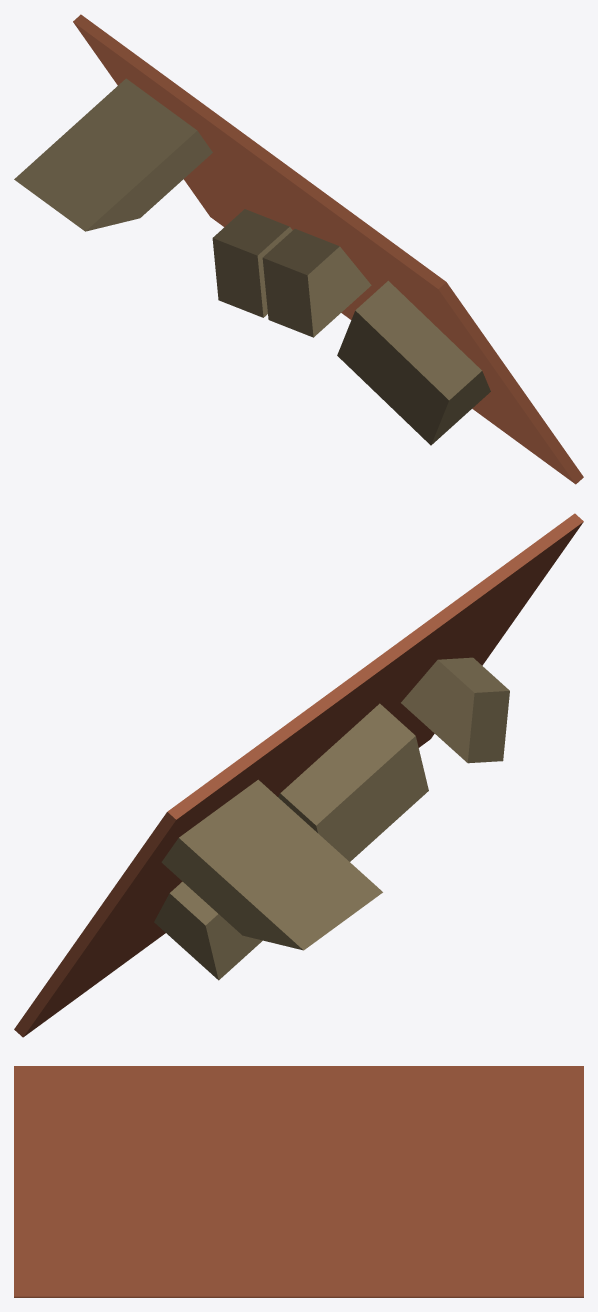
The model's file is face-joint.glb.
3 renders of one model, top to bottom at view 1: azimuth 30°, elevation 25°; view 2: azimuth 150°, elevation 25°; view 3: azimuth 270°, elevation 25°, orthographic. The views are drawn at different scales.
Visible parts, largest first — view 1: lower-ne-02-m015-c000.003, lower-ne-02-m015-c004.001, lower-ne-02-m015-c003.001, lower-ne-02-m015-c002.001, lower-ne-02-m015-c001.001; view 2: lower-ne-02-m015-c000.003, lower-ne-02-m015-c004.001, lower-ne-02-m015-c002.001, lower-ne-02-m015-c003.001, lower-ne-02-m015-c001.001; view 3: lower-ne-02-m015-c000.003.
Part boxes in pixels (x1,y1,x2,y2): lower-ne-02-m015-c000.003: (73,14,583,484); lower-ne-02-m015-c004.001: (14,78,212,231); lower-ne-02-m015-c003.001: (337,280,490,445); lower-ne-02-m015-c002.001: (262,229,371,337); lower-ne-02-m015-c001.001: (212,209,292,317); lower-ne-02-m015-c000.003: (14,513,583,1037); lower-ne-02-m015-c004.001: (161,779,382,950); lower-ne-02-m015-c002.001: (278,703,428,861); lower-ne-02-m015-c003.001: (401,657,509,763); lower-ne-02-m015-c001.001: (154,881,262,980); lower-ne-02-m015-c000.003: (14,1066,583,1297).
Bounding box in the file's own units: 0.3382 × 0.326 × 0.9225.
